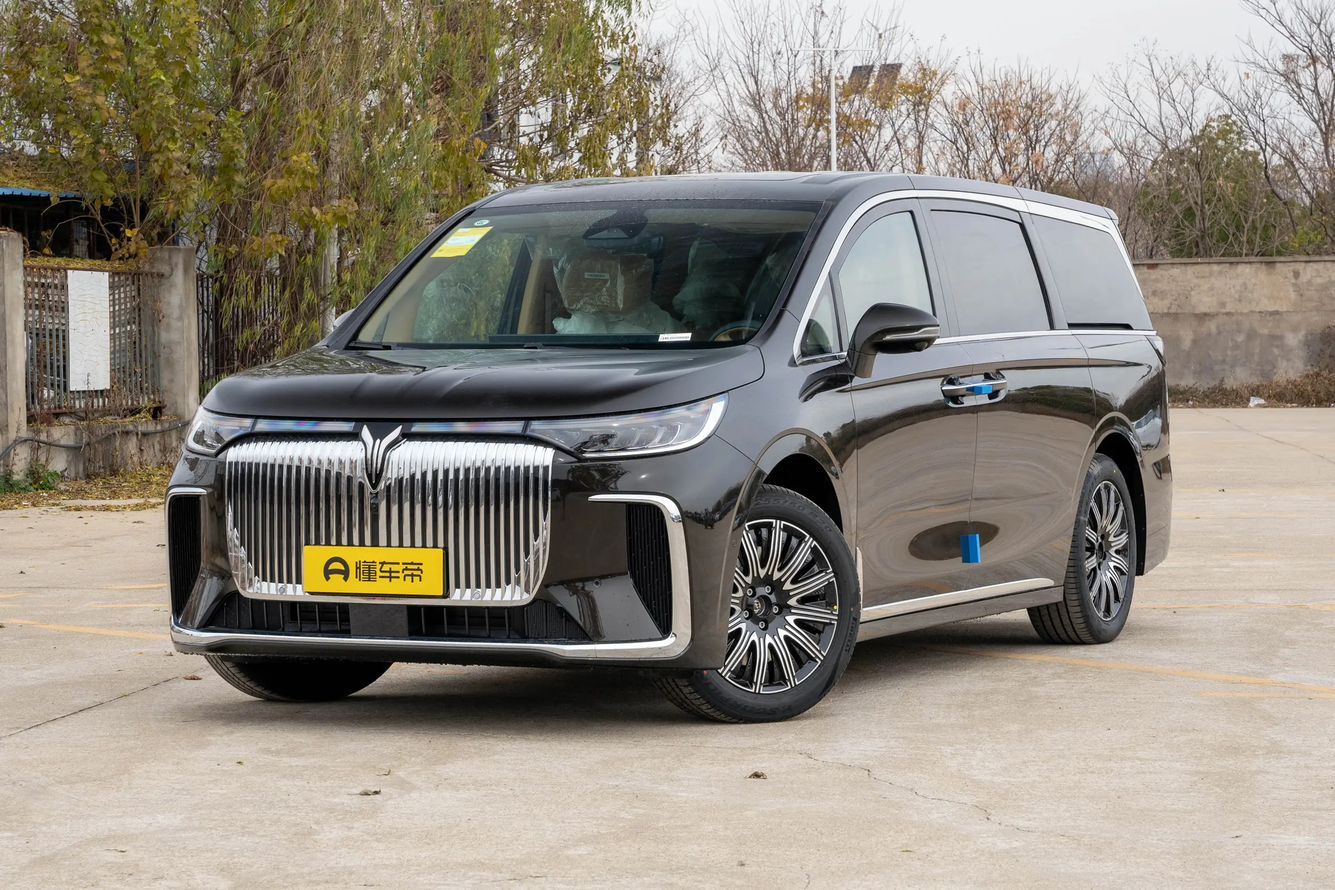VOYAH: (361, 425, 401, 483)
